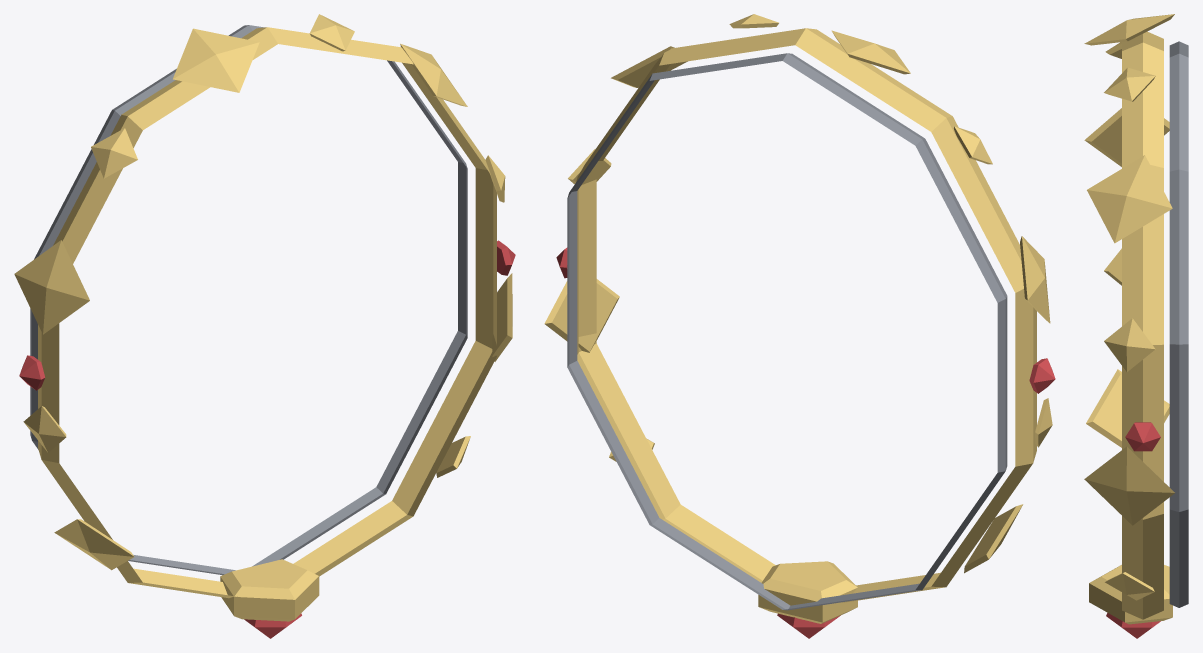
Rendered from helm_circlet.glb.
The picture shows the model from 3 angles, left to right: view 1: azimuth 30°, elevation 25°; view 2: azimuth 150°, elevation 25°; view 3: azimuth 270°, elevation 25°; orthographic projection. The views are drawn at different scales.
Visible parts, largest first — view 1: Head; view 2: Head; view 3: Head.
Part boxes in pixels (left/top/right/bottom): Head: left=14, top=14, right=515, bottom=638; Head: left=544, top=14, right=1055, bottom=638; Head: left=1084, top=14, right=1188, bottom=638.
Bounding box in the file's own units: 0.9336 × 1.1 × 0.174.
